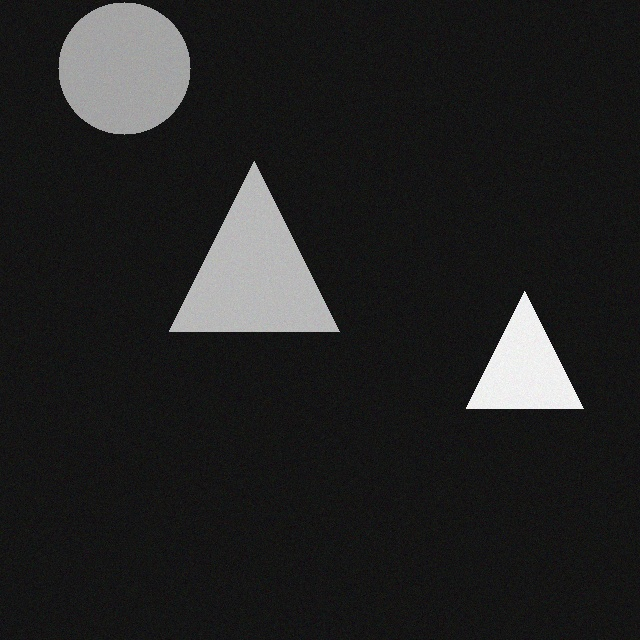circle: (73, 12, 205, 144)
triangle: (184, 171, 354, 341), (481, 301, 598, 418)
